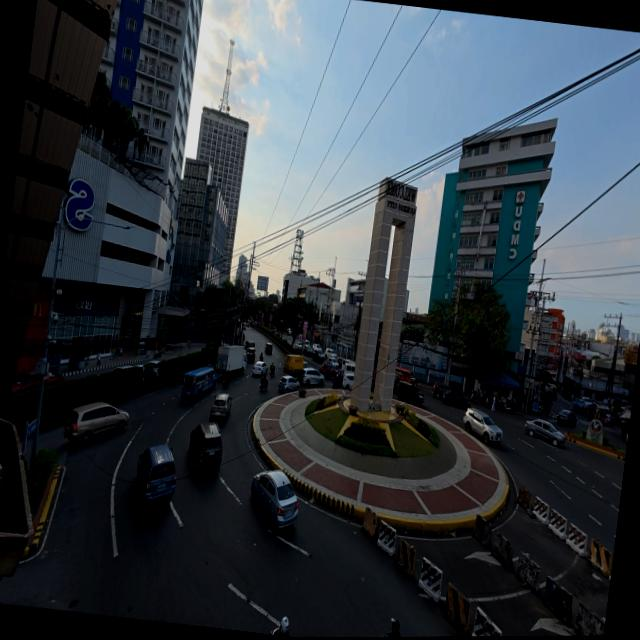Jeepneys: (180, 365, 215, 400), (394, 366, 411, 382)
car: (63, 402, 128, 445), (250, 471, 298, 528), (136, 444, 175, 505), (188, 422, 222, 471), (463, 409, 502, 444), (524, 420, 564, 446), (395, 382, 424, 406), (209, 392, 231, 421), (10, 372, 39, 392), (442, 391, 469, 410), (278, 375, 299, 393), (301, 368, 323, 385), (591, 405, 610, 424), (555, 410, 576, 427), (111, 364, 143, 374), (432, 383, 450, 399), (319, 362, 336, 378), (251, 361, 267, 376), (146, 360, 159, 378), (572, 399, 587, 414), (341, 371, 353, 389), (323, 356, 338, 370), (341, 359, 354, 372), (312, 348, 323, 363), (246, 347, 255, 362), (392, 374, 399, 393), (301, 345, 311, 356), (580, 397, 592, 406), (264, 342, 271, 355), (328, 352, 337, 362), (293, 341, 301, 350), (245, 341, 255, 348), (324, 349, 332, 356), (312, 344, 320, 350), (286, 329, 291, 336), (625, 433, 627, 443)
motorcycle: (270, 622, 412, 640), (500, 398, 514, 413), (470, 389, 482, 403), (331, 373, 341, 389), (483, 394, 492, 408), (259, 376, 267, 391), (620, 423, 628, 436), (222, 376, 229, 387), (153, 349, 160, 358), (269, 366, 274, 377), (259, 353, 262, 360)
trucks: (215, 345, 246, 373), (283, 355, 303, 379)
